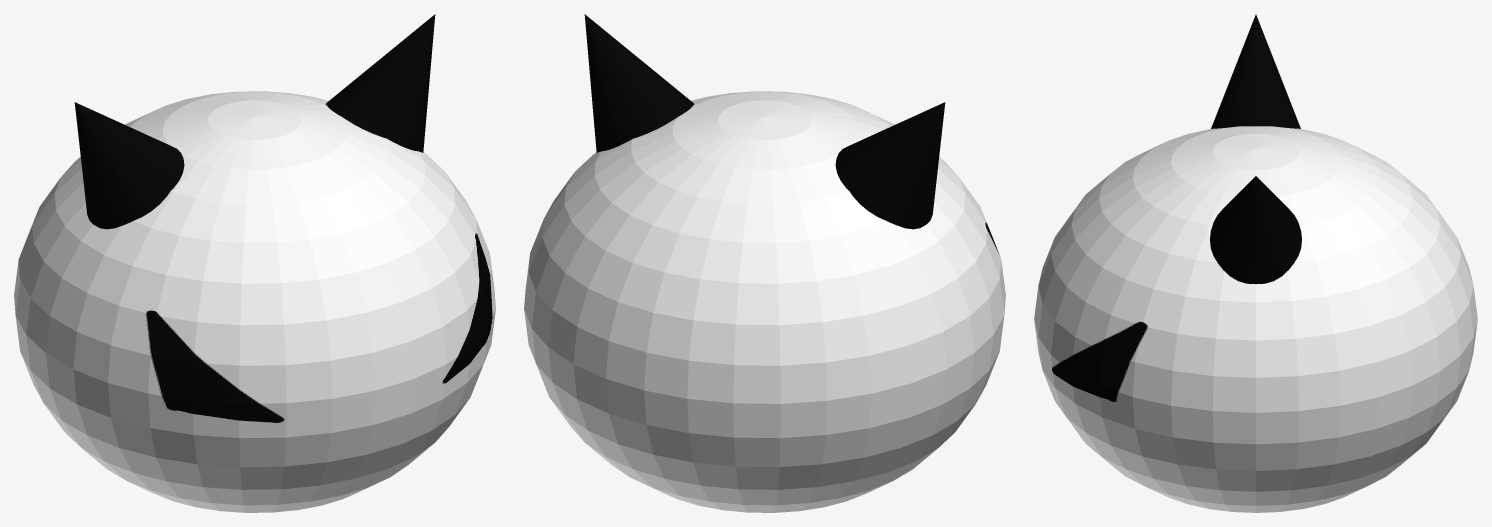
The model's file is cornerEnemy.obj.
The picture shows the model from 3 angles, left to right: view 1: azimuth 30°, elevation 25°; view 2: azimuth 150°, elevation 25°; view 3: azimuth 270°, elevation 25°; orthographic projection. The views are drawn at different scales.
Parts seen in each view (by area): view 1: 球, 円錐, 円錐.001; view 2: 球, 円錐, 円錐.001; view 3: 球, 円錐.001, 円錐.
Part boxes in pixels (bbox=[...]): 球: bbox=[14, 91, 495, 512]; 円錐: bbox=[74, 102, 184, 229]; 円錐.001: bbox=[326, 14, 435, 152]; 球: bbox=[524, 91, 1005, 512]; 円錐: bbox=[835, 102, 945, 229]; 円錐.001: bbox=[584, 14, 693, 152]; 球: bbox=[1034, 126, 1477, 512]; 円錐.001: bbox=[1210, 176, 1301, 284]; 円錐: bbox=[1211, 14, 1300, 128].
Size of the model in its own units: 2 by 1.96 by 2.
1 material, 1 textured.
